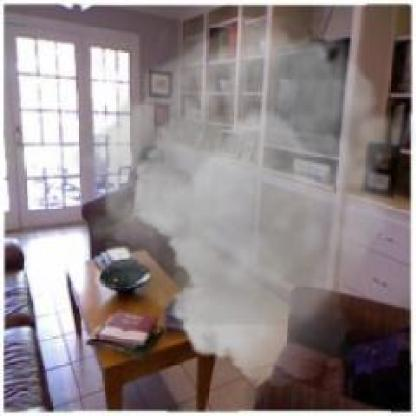Smoke: (71, 17, 414, 389)
